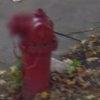a fire hydrant: (10, 9, 57, 99)
